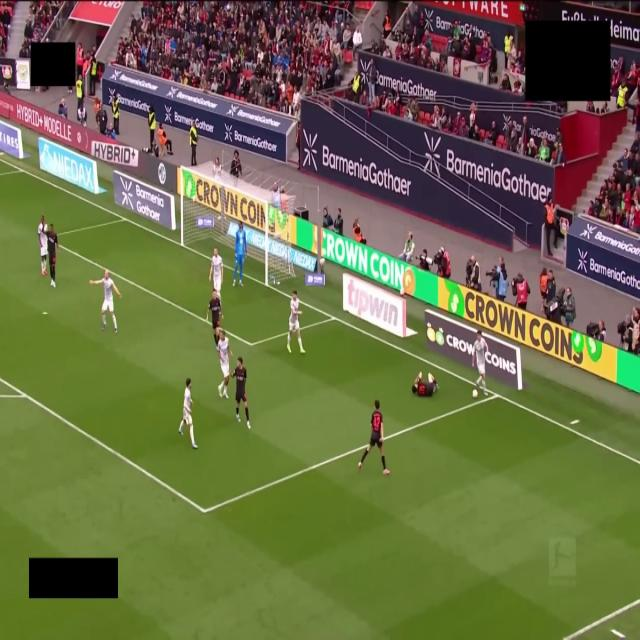ball: (472, 390, 477, 398)
player: (358, 400, 389, 474), (89, 271, 121, 333), (179, 378, 197, 448), (232, 358, 250, 428), (287, 291, 305, 353), (472, 330, 488, 395), (217, 330, 232, 398), (206, 288, 223, 344), (233, 223, 246, 286), (46, 224, 58, 287), (209, 248, 223, 295), (412, 373, 438, 397), (38, 216, 47, 275)
